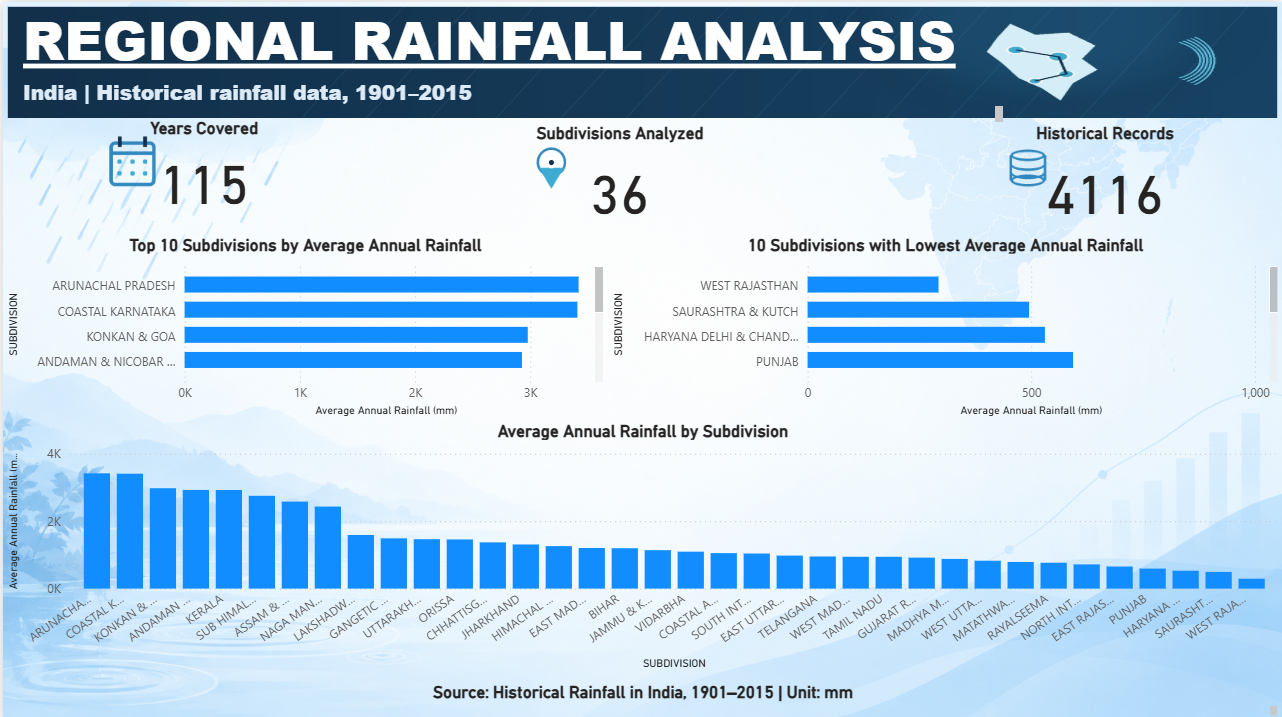

What the dashboard file says about the page in this screenshot:
{"tool":"powerbi","page":{"name":"Regional Rainfall Analysis","canvas":[1280,720],"ordinal":1},"visuals":[{"type":"image","box":[0,0,1280,120.9],"z":0},{"type":"clusteredBarChart","title":"Top 10 Subdivisions by Average Annual Rainfall","fields":{"Category":["HistoricalRainfall.SUBDIVISION"],"Y":["HistoricalRainfall.Average Annual Rainfall (mm)"]},"box":[0,231.9,605.1,186.6],"z":1000},{"type":"clusteredBarChart","title":"10 Subdivisions with Lowest Average Annual Rainfall","fields":{"Category":["HistoricalRainfall.SUBDIVISION"],"Y":["HistoricalRainfall.Average Annual Rainfall (mm)"]},"box":[605.1,231.9,675.1,186.6],"z":2000},{"type":"textbox","title":"REGIONAL RAINFALL ANALYSIS","box":[20,0,980,120],"z":3000},{"type":"card","title":"Years Covered","fields":{"Values":["HistoricalRainfall.Years Covered"]},"box":[20,116.2,362.5,101.2],"z":4000},{"type":"card","title":"Subdivisions Analyzed","fields":{"Values":["HistoricalRainfall.Subdivisions Analyzed"]},"box":[467.9,120.8,299.1,111.1],"z":5000},{"type":"card","title":"Historical Records","fields":{"Values":["HistoricalRainfall.Historical Records"]},"box":[952.3,120.8,299.1,111.1],"z":6000},{"type":"clusteredColumnChart","title":"Average Annual Rainfall by Subdivision","fields":{"Category":["HistoricalRainfall.SUBDIVISION"],"Y":["HistoricalRainfall.Average Annual Rainfall (mm)"]},"box":[0,418.5,1280.3,253.9],"z":7000},{"type":"textbox","title":"Source: Historical Rainfall in India, 1901–2015 | Unit: mm","box":[0,680.6,1280.3,39.8],"z":8000},{"type":"image","box":[83.8,118.8,91.2,83.8],"z":9000},{"type":"image","box":[507.5,135,81.2,62.5],"z":10000},{"type":"image","box":[977.5,135,95,62.5],"z":11000}]}

Visuals, with their boxes in screenshot pixels (x1, y1, x2, y2), scaled from the page's 1280x720 canvas onto the 1282x717 screenshot:
image: 0,0,1281,120
"Top 10 Subdivisions by Average Annual Rainfall" clusteredBarChart: 0,231,606,417
"10 Subdivisions with Lowest Average Annual Rainfall" clusteredBarChart: 606,231,1281,417
"REGIONAL RAINFALL ANALYSIS" textbox: 20,0,1002,120
"Years Covered" card: 20,116,383,216
"Subdivisions Analyzed" card: 469,120,768,231
"Historical Records" card: 954,120,1253,231
"Average Annual Rainfall by Subdivision" clusteredColumnChart: 0,417,1281,670
"Source: Historical Rainfall in India, 1901–2015 | Unit: mm" textbox: 0,678,1281,716
image: 84,118,175,202
image: 508,134,590,197
image: 979,134,1074,197
